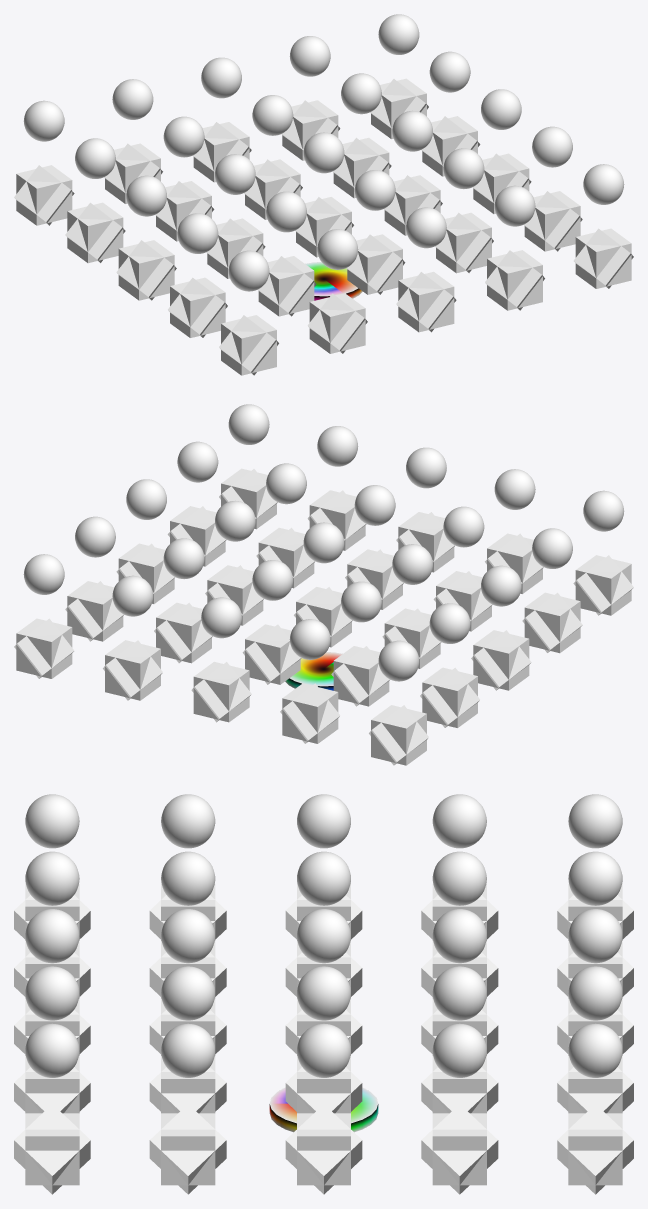
File: metal-rough.gltf
3 renders of one model, top to bottom at view 1: azimuth 30°, elevation 25°; view 2: azimuth 150°, elevation 25°; view 3: azimuth 270°, elevation 25°, orthographic. The views are drawn at different scales.
Parts seen in each view (by area): view 1: cube (×25), sphere (×25), diamond (×25), base; view 2: cube (×25), sphere (×25), diamond (×25), base; view 3: sphere (×25), cube (×25), diamond (×25), base.
Boxes of the visible parts, box(x1,y1,x2,y2) form: cube (×25): box(16, 78, 631, 375); sphere (×25): box(23, 14, 624, 291); diamond (×25): box(14, 79, 633, 375); base: box(305, 262, 362, 300); cube (×25): box(16, 468, 631, 765); sphere (×25): box(23, 404, 624, 681); diamond (×25): box(14, 469, 633, 765); base: box(285, 652, 342, 690); sphere (×25): box(25, 794, 622, 1077); cube (×25): box(25, 883, 622, 1185); diamond (×25): box(14, 895, 633, 1194); base: box(269, 1087, 378, 1132).
Size of the model in its own units: 5.85 by 2.05 by 5.71.
26 materials, 1 textured.
